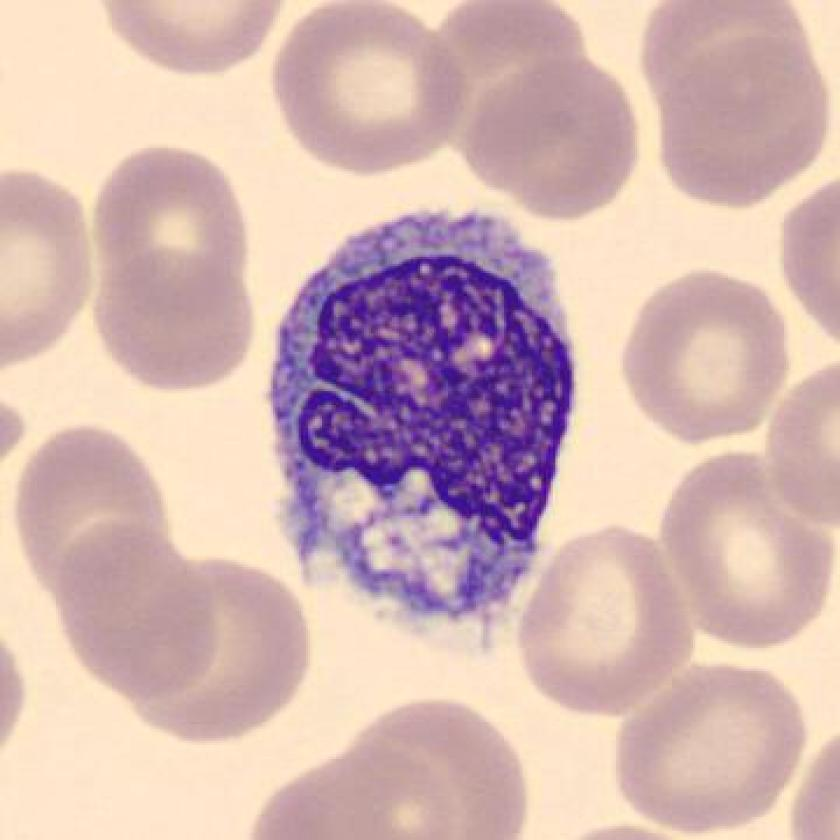monocyte: (244, 188, 598, 663)
